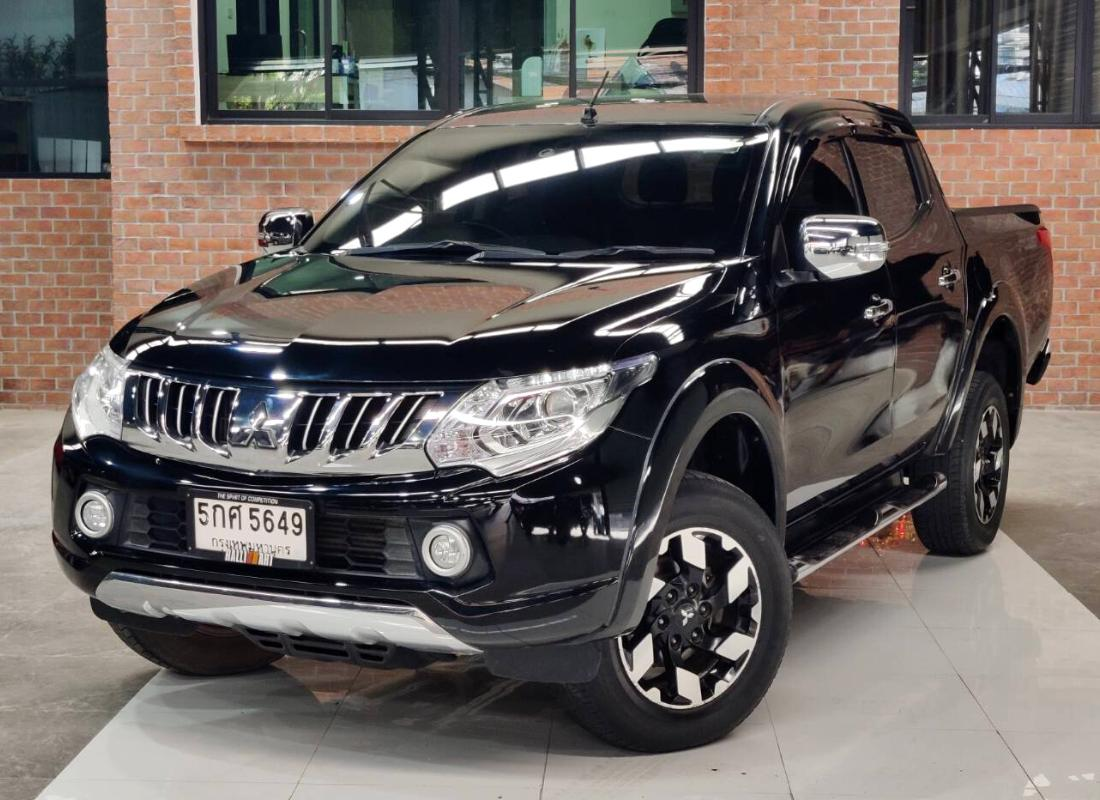license-plate: (186, 486, 316, 570)
